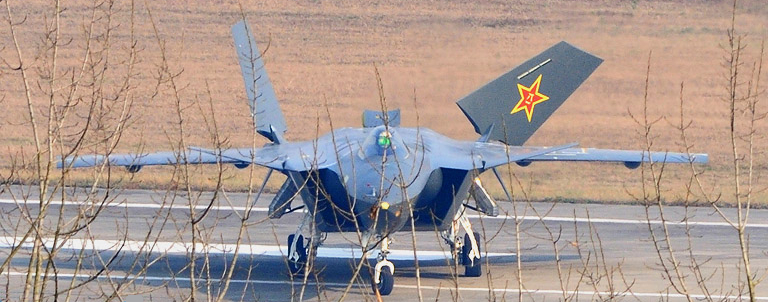J20: (56, 16, 709, 296)
